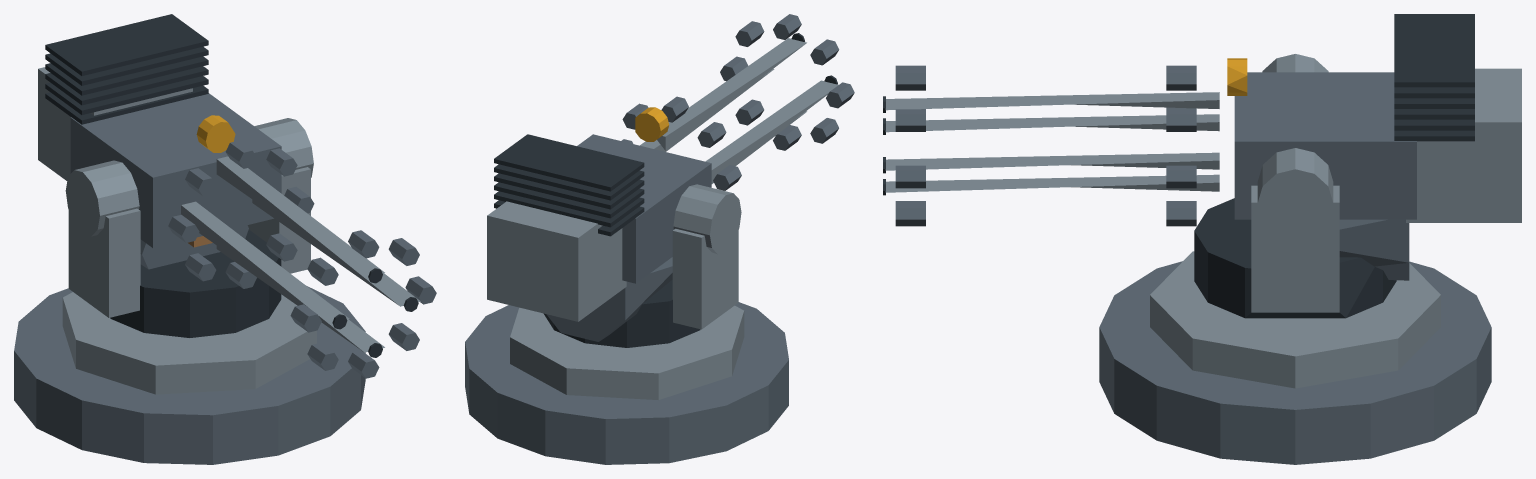
Rendered from rotor_t2_d0.meshopt.glb.
The picture shows the model from 3 angles, left to right: view 1: azimuth 30°, elevation 25°; view 2: azimuth 150°, elevation 25°; view 3: azimuth 270°, elevation 25°; orthographic projection. The views are drawn at different scales.
Visible parts, largest first — view 1: ROOT_ARMOR_GEOMETRY; view 2: ROOT_ARMOR_GEOMETRY; view 3: ROOT_ARMOR_GEOMETRY.
Part boxes in pixels (x1,y1,x2,y2): ROOT_ARMOR_GEOMETRY: (14, 14, 436, 464); ROOT_ARMOR_GEOMETRY: (465, 14, 854, 464); ROOT_ARMOR_GEOMETRY: (883, 14, 1521, 464).
Size of the model in its own units: 1.55 by 1.46 by 2.52.
